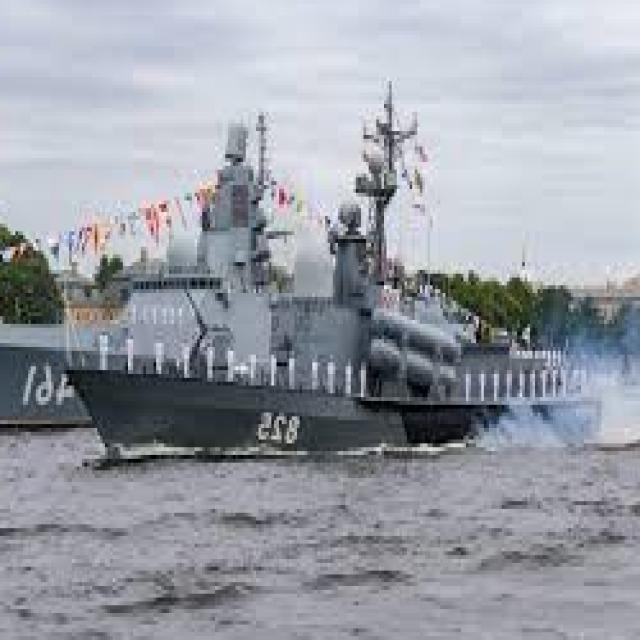navalvessels: (90, 71, 602, 456), (0, 115, 318, 439)
